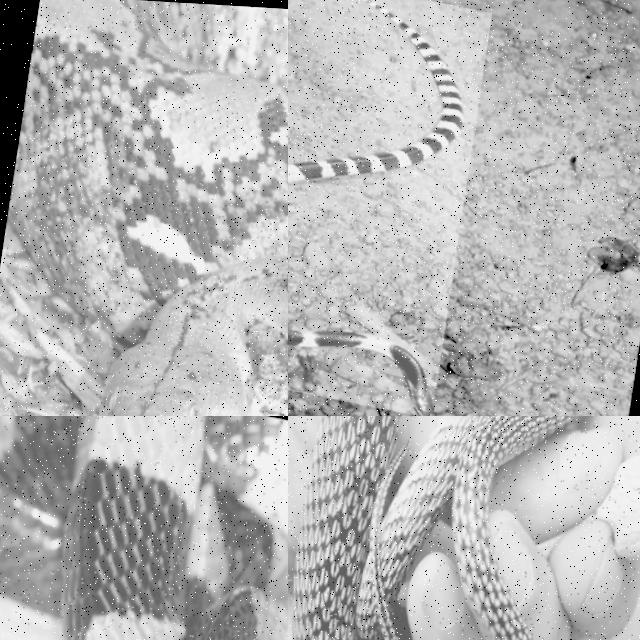Bungarus candidus: (288, 0, 462, 182)
Bungarus fasciatus: (0, 416, 287, 639)
Chrysopelea ornata: (292, 416, 585, 639)
Malayopython reticulatus: (8, 0, 287, 415)
